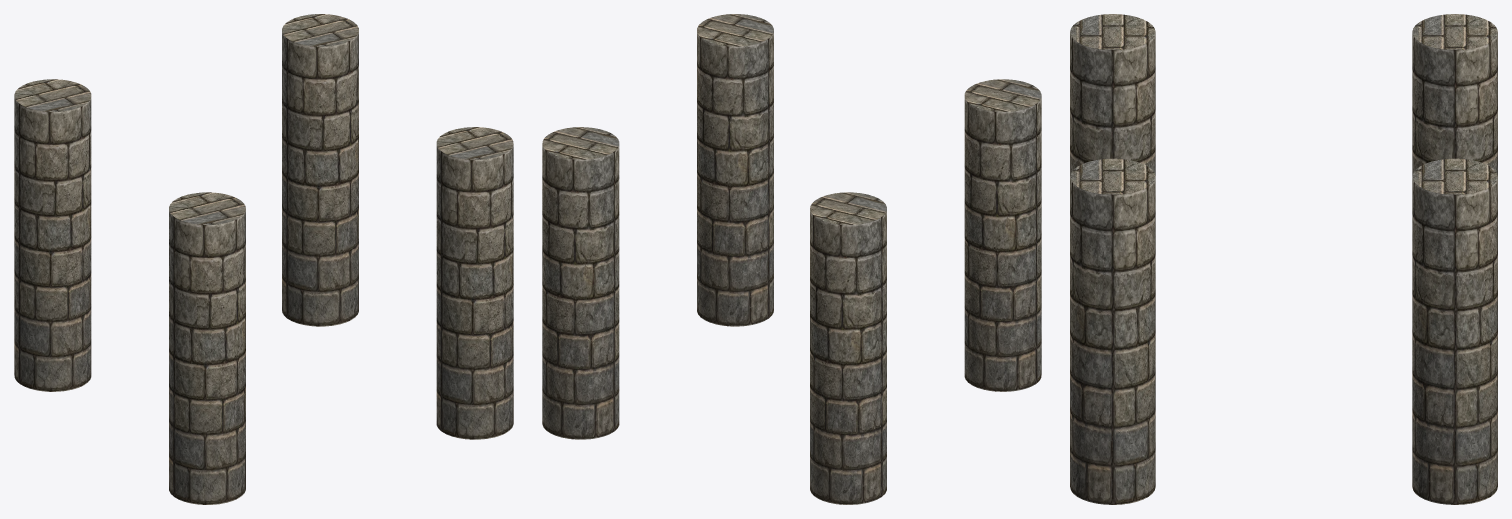
The model's file is blk_pillars_dungeon.glb.
The picture shows the model from 3 angles, left to right: view 1: azimuth 30°, elevation 25°; view 2: azimuth 150°, elevation 25°; view 3: azimuth 270°, elevation 25°; orthographic projection. The views are drawn at different scales.
Parts seen in each view (by area): view 1: 4 pillars; view 2: 4 pillars; view 3: 4 pillars.
Boxes of the visible parts, x1=… form: 4 pillars: x1=14, y1=14, x2=513, y2=504; 4 pillars: x1=542, y1=14, x2=1041, y2=504; 4 pillars: x1=1070, y1=14, x2=1497, y2=504.
Bounding box in the file's own units: 2.5 × 2 × 2.5.
1 material, 1 textured.
